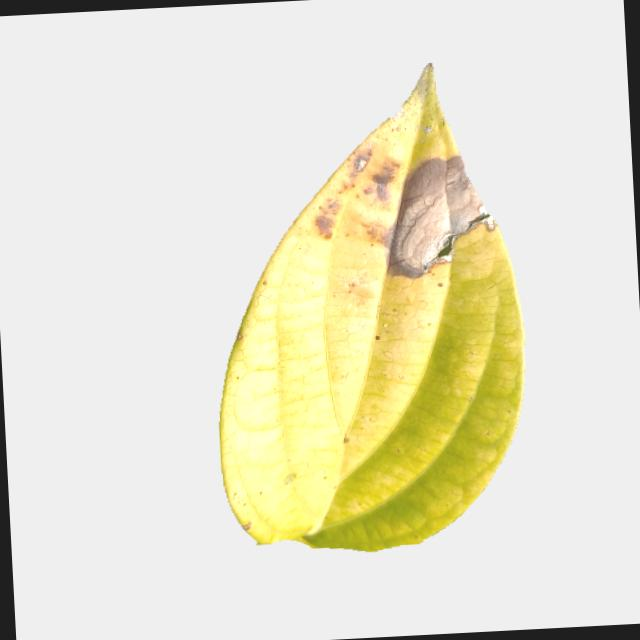leaf-blight: (175, 46, 554, 549)
